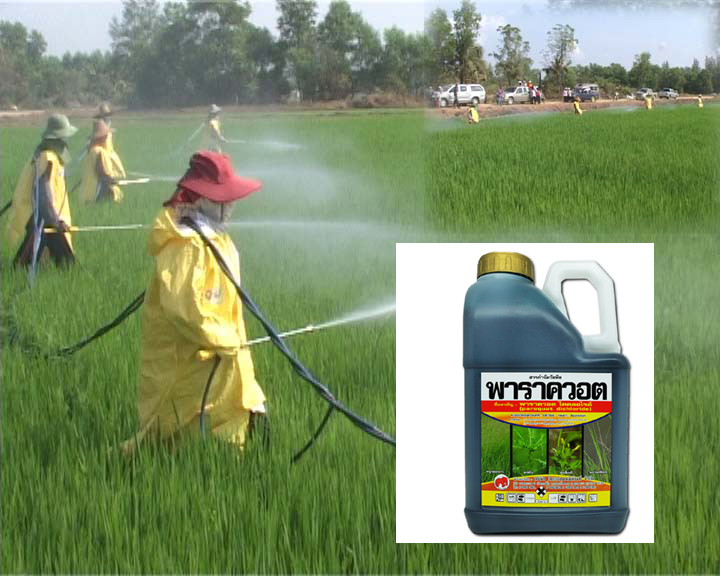Insecticide: (456, 246, 635, 543)
